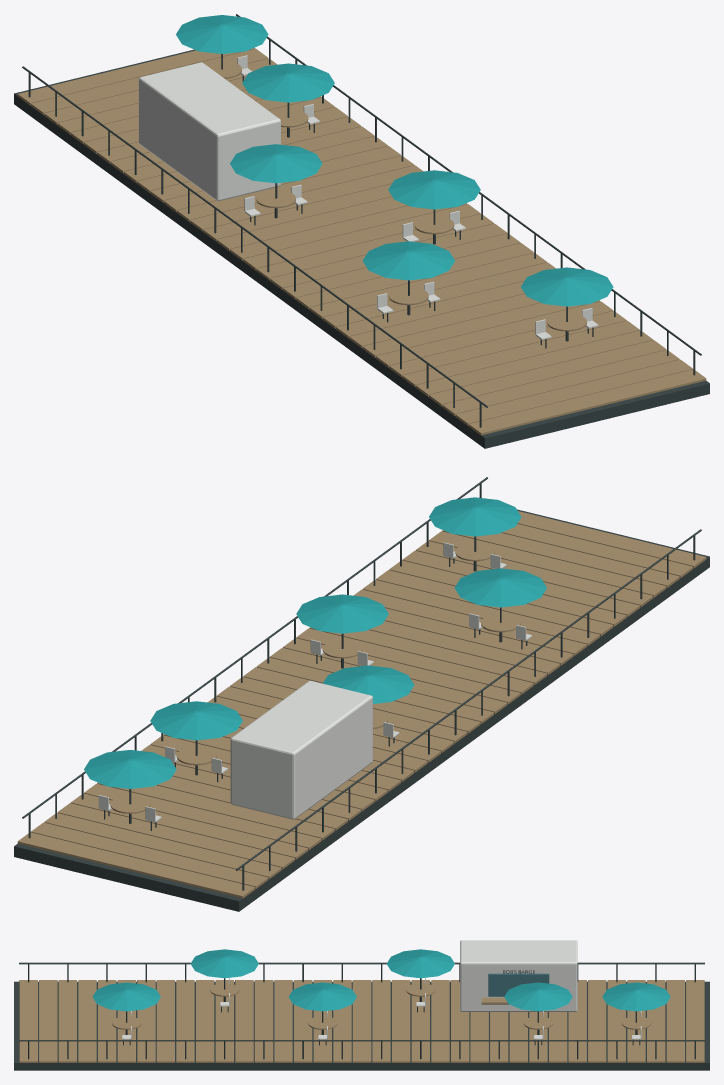
File: valade-barge.glb
The picture shows the model from 3 angles, top to bottom: view 1: azimuth 30°, elevation 25°; view 2: azimuth 150°, elevation 25°; view 3: azimuth 270°, elevation 25°; orthographic projection. The views are drawn at different scales.
Parts seen in each view (by area): view 1: Barge deck board, Cone, Barge café trailer, Floating barge hull; view 2: Barge deck board, Barge café trailer, Cone, Floating barge hull; view 3: Barge deck board, Floating barge hull, Cone, Barge café trailer, Barge café serving hatch.
Boxes of the visible parts, box(x1,y1,x2,y2) form: Barge deck board: box(17, 47, 706, 435); Cone: box(176, 15, 613, 306); Barge café trailer: box(138, 55, 598, 339); Floating barge hull: box(14, 14, 709, 448); Barge deck board: box(17, 511, 706, 898); Barge café trailer: box(98, 542, 531, 822); Cone: box(84, 497, 546, 788); Floating barge hull: box(14, 477, 709, 911); Barge deck board: box(19, 980, 704, 1062); Floating barge hull: box(14, 962, 709, 1070); Cone: box(92, 949, 670, 1011); Barge café trailer: box(122, 940, 641, 1039); Barge café serving hatch: box(488, 973, 549, 996).
Size of the model in its own units: 9.8 by 3.51 by 35.5.
